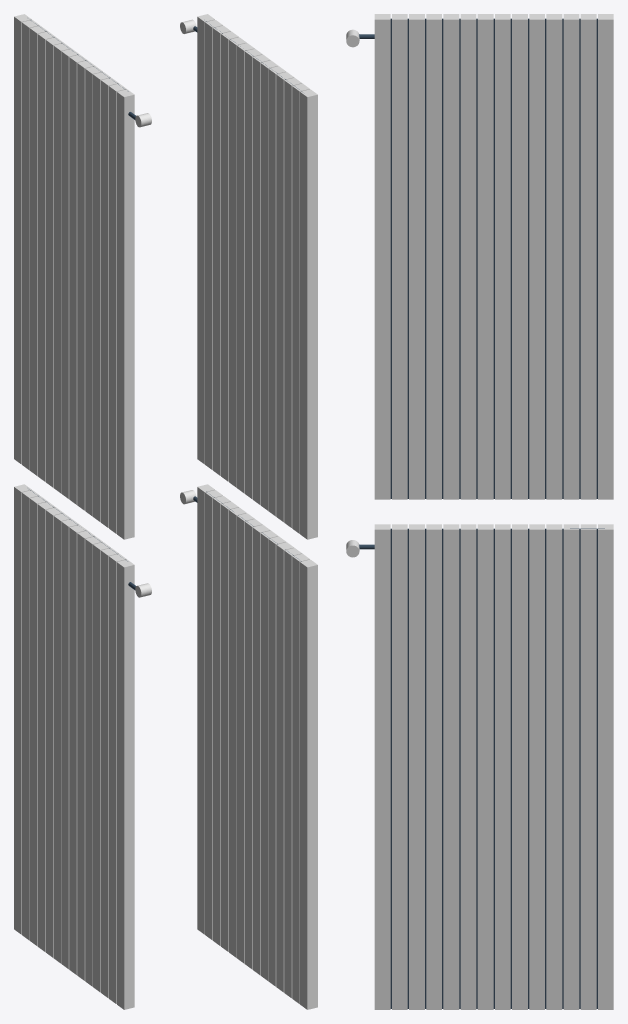
File: Tall Heater.fbx
The picture shows the model from 3 angles, left to right: view 1: azimuth 30°, elevation 25°; view 2: azimuth 210°, elevation 25°; view 3: azimuth 270°, elevation 25°; orthographic projection. The views are drawn at different scales.
Parts seen in each view (by area): view 1: Bottom Heater, Top Heater; view 2: Bottom Heater, Top Heater; view 3: Bottom Heater, Top Heater.
Boxes of the visible parts, x1=… form: Bottom Heater: x1=14, y1=484, x2=151, y2=1009; Top Heater: x1=14, y1=14, x2=151, y2=539; Bottom Heater: x1=180, y1=484, x2=317, y2=1009; Top Heater: x1=180, y1=14, x2=317, y2=539; Bottom Heater: x1=346, y1=524, x2=613, y2=1009; Top Heater: x1=346, y1=14, x2=613, y2=499.
Bounding box in the file's own units: 13.93 × 825 × 202.
